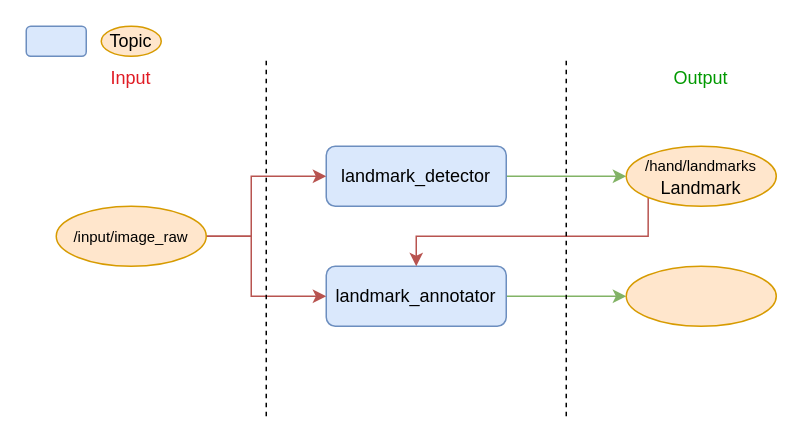
Image size: 804x444. Some labels were removed from this diagram. The shapes that lost their labels are listed below. From the top down, each one's box as (x1, y1, x2, y2) in pixels, then its label:
(25, 25, 86, 56): Node
(625, 265, 776, 326): /hand/annotated/image
